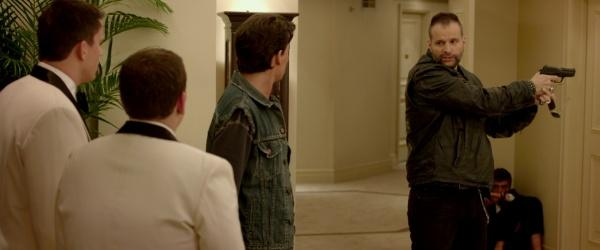Gun: (540, 64, 576, 83)
